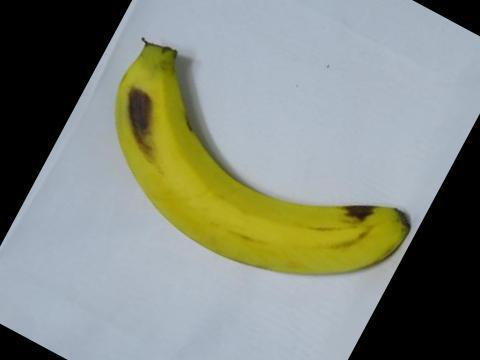freshripe: (104, 32, 426, 278)
